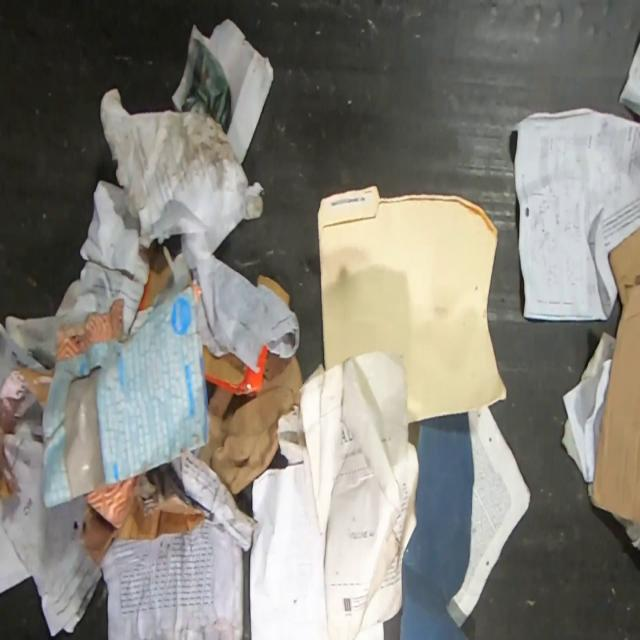cardboard: (40, 282, 208, 509), (400, 413, 474, 640), (199, 349, 303, 496), (591, 225, 640, 532), (204, 345, 268, 396), (139, 244, 170, 311), (257, 275, 290, 309)
